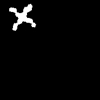single_crochet: (9, 4, 35, 29)
